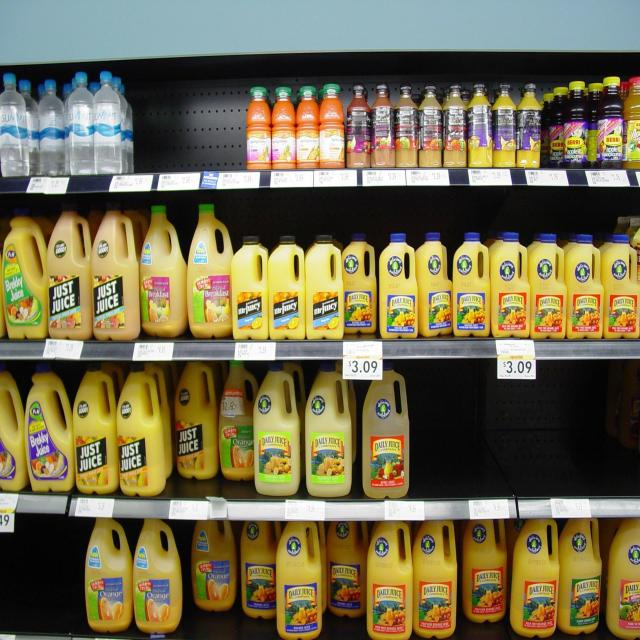empty_space: (419, 382, 640, 499), (139, 75, 245, 177), (12, 522, 86, 630), (185, 615, 268, 640), (324, 620, 368, 640)
